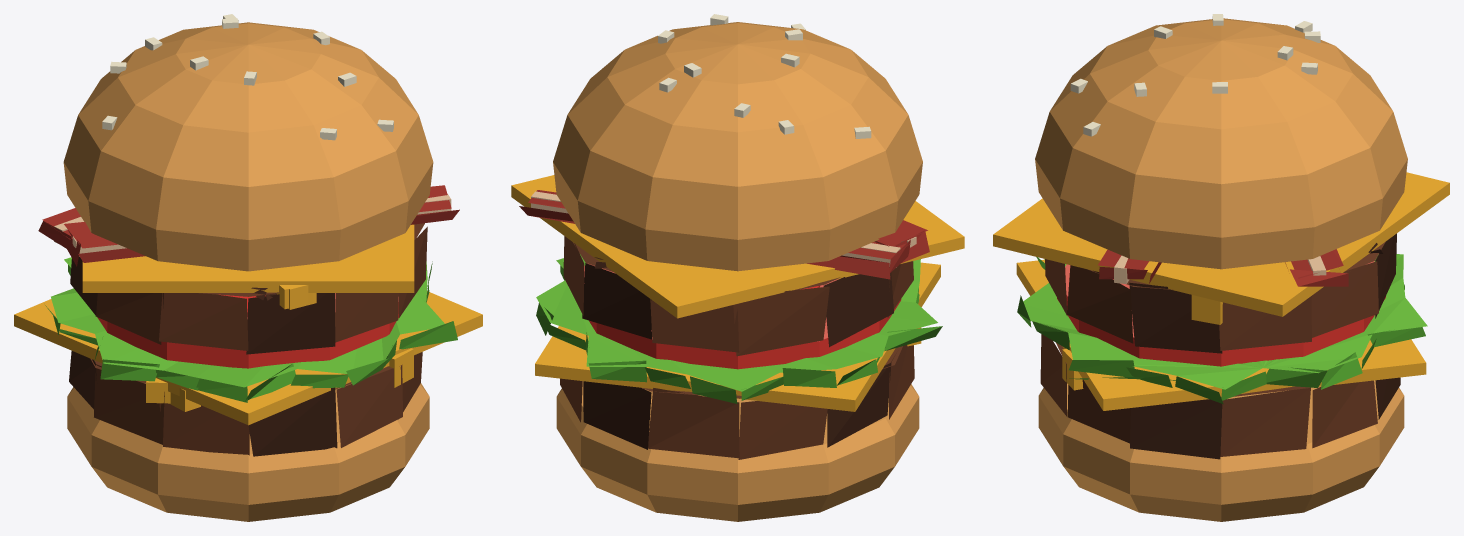
The model's file is food_burger.glb.
The picture shows the model from 3 angles, left to right: view 1: azimuth 30°, elevation 25°; view 2: azimuth 150°, elevation 25°; view 3: azimuth 270°, elevation 25°; orthographic projection.
Parts seen in each view (by area): view 1: food_burger; view 2: food_burger; view 3: food_burger.
Part boxes in pixels (box(x1,y1,x2,y2)): food_burger: box(14, 14, 482, 521); food_burger: box(511, 14, 964, 521); food_burger: box(993, 14, 1449, 521).
Bounding box in the file's own units: 0.1749 × 0.174 × 0.1749.
